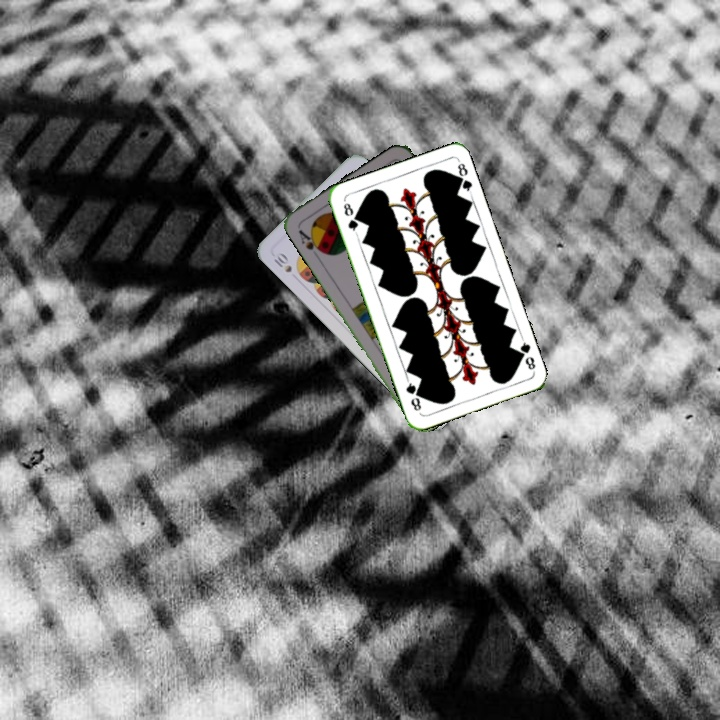G8: (513, 334, 538, 374), (339, 199, 361, 236)
S10: (270, 250, 294, 275)
SA: (294, 225, 326, 256)
